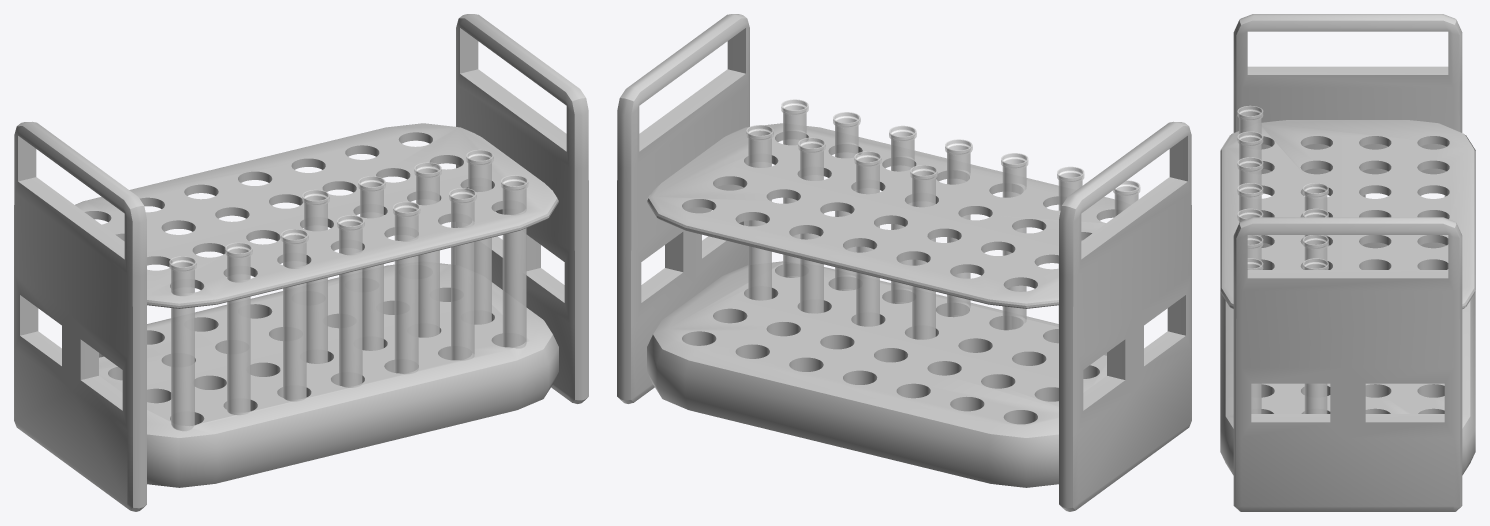
File: test-tube-rack-full.glb
3 renders of one model, left to right at view 1: azimuth 30°, elevation 25°; view 2: azimuth 150°, elevation 25°; view 3: azimuth 270°, elevation 25°, orthographic. The views are drawn at different scales.
Parts seen in each view (by area): view 1: Object_73, Object_74; view 2: Object_73, Object_74; view 3: Object_73, Object_74.
Part boxes in pixels (box(x1,y1,x2,y2)): Object_73: box(14, 14, 588, 511); Object_74: box(169, 149, 528, 431); Object_73: box(617, 14, 1191, 511); Object_74: box(746, 99, 1140, 342); Object_73: box(1220, 14, 1475, 511); Object_74: box(1237, 105, 1328, 413).
Bounding box in the file's own units: 0.4801 × 0.3098 × 0.2451.
2 materials, 1 textured.
